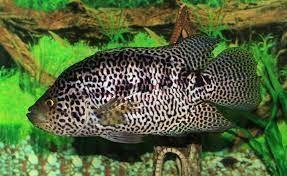Jaguar Gapote: (28, 35, 264, 146)
